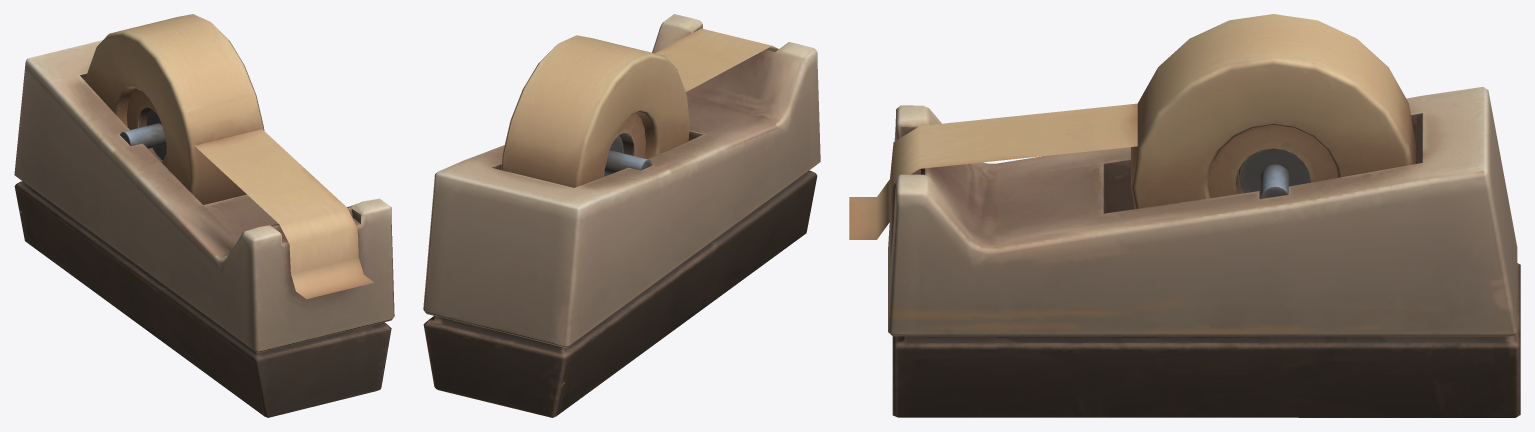
The model's file is SM_Scotch.fbx.
3 renders of one model, left to right at view 1: azimuth 30°, elevation 25°; view 2: azimuth 150°, elevation 25°; view 3: azimuth 270°, elevation 25°, orthographic. The views are drawn at different scales.
Visible parts, largest first — view 1: SM_Scotch_LOD0; view 2: SM_Scotch_LOD0; view 3: SM_Scotch_LOD0.
Part boxes in pixels (x1,y1,x2,y2): SM_Scotch_LOD0: (14, 14, 394, 417); SM_Scotch_LOD0: (423, 14, 820, 417); SM_Scotch_LOD0: (849, 14, 1520, 417).
Size of the model in its own units: 8.42 by 27.01 by 15.42.
1 material, 1 textured.
